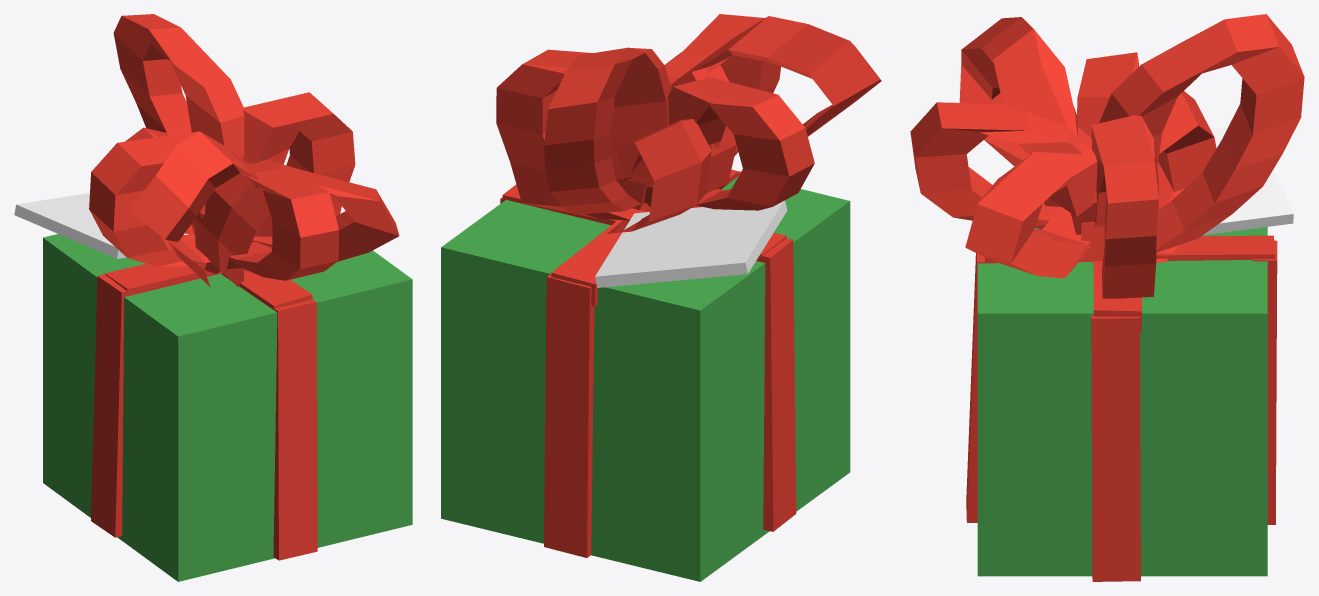
The model's file is gift.glb.
3 renders of one model, left to right at view 1: azimuth 30°, elevation 25°; view 2: azimuth 150°, elevation 25°; view 3: azimuth 270°, elevation 25°, orthographic. The views are drawn at different scales.
Parts seen in each view (by area): view 1: group1455568456, group1583166991, group1328812126, group247229525, group1936347037, group261754713, group741846027, group1736552802, group1492816832, group1583049009, group829878722, group704784828; view 2: group1455568456, group1328812126, group1865578996, group261754713, group1583049009, group1583166991, group741846027, group1736552802, group679246126, group1936347037, group704784828, group829878722; view 3: group1455568456, group1328812126, group751510744, group1492816832, group1936347037, group1736552802, group1583166991, group679246126, group261754713, group1865578996, group1583049009, group704784828 (+2 smaller).
Part boxes in pixels (<box>): group1455568456: <box>43,234,412,581</box>; group1583166991: <box>129,131,269,287</box>; group1328812126: <box>113,14,244,159</box>; group247229525: <box>273,299,317,560</box>; group1936347037: <box>214,160,338,280</box>; group261754713: <box>89,131,272,273</box>; group741846027: <box>91,274,127,537</box>; group1736552802: <box>243,92,355,215</box>; group1492816832: <box>252,160,399,261</box>; group1583049009: <box>14,193,188,258</box>; group829878722: <box>105,263,217,296</box>; group704784828: <box>221,271,312,309</box>; group1455568456: <box>441,175,850,581</box>; group1328812126: <box>544,47,671,214</box>; group1865578996: <box>544,274,594,557</box>; group261754713: <box>616,77,814,211</box>; group1583049009: <box>595,200,787,287</box>; group1583166991: <box>670,16,881,194</box>; group741846027: <box>756,238,796,531</box>; group1736552802: <box>496,49,653,220</box>; group679246126: <box>607,119,711,233</box>; group1936347037: <box>664,14,780,156</box>; group704784828: <box>551,170,737,306</box>; group829878722: <box>502,184,786,255</box>; group1455568456: <box>977,227,1267,576</box>; group1328812126: <box>1099,14,1304,252</box>; group751510744: <box>1091,315,1140,581</box>; group1492816832: <box>965,140,1097,278</box>; group1936347037: <box>910,102,1096,234</box>; group1736552802: <box>1091,115,1158,298</box>; group1583166991: <box>959,17,1078,206</box>; group679246126: <box>1156,91,1216,262</box>; group261754713: <box>1077,52,1138,262</box>; group1865578996: <box>1253,240,1277,524</box>; group1583049009: <box>1203,126,1293,234</box>; group704784828: <box>985,235,1275,262</box>.
Bounding box in the file's own units: 0.1434 × 0.2201 × 0.1631.
